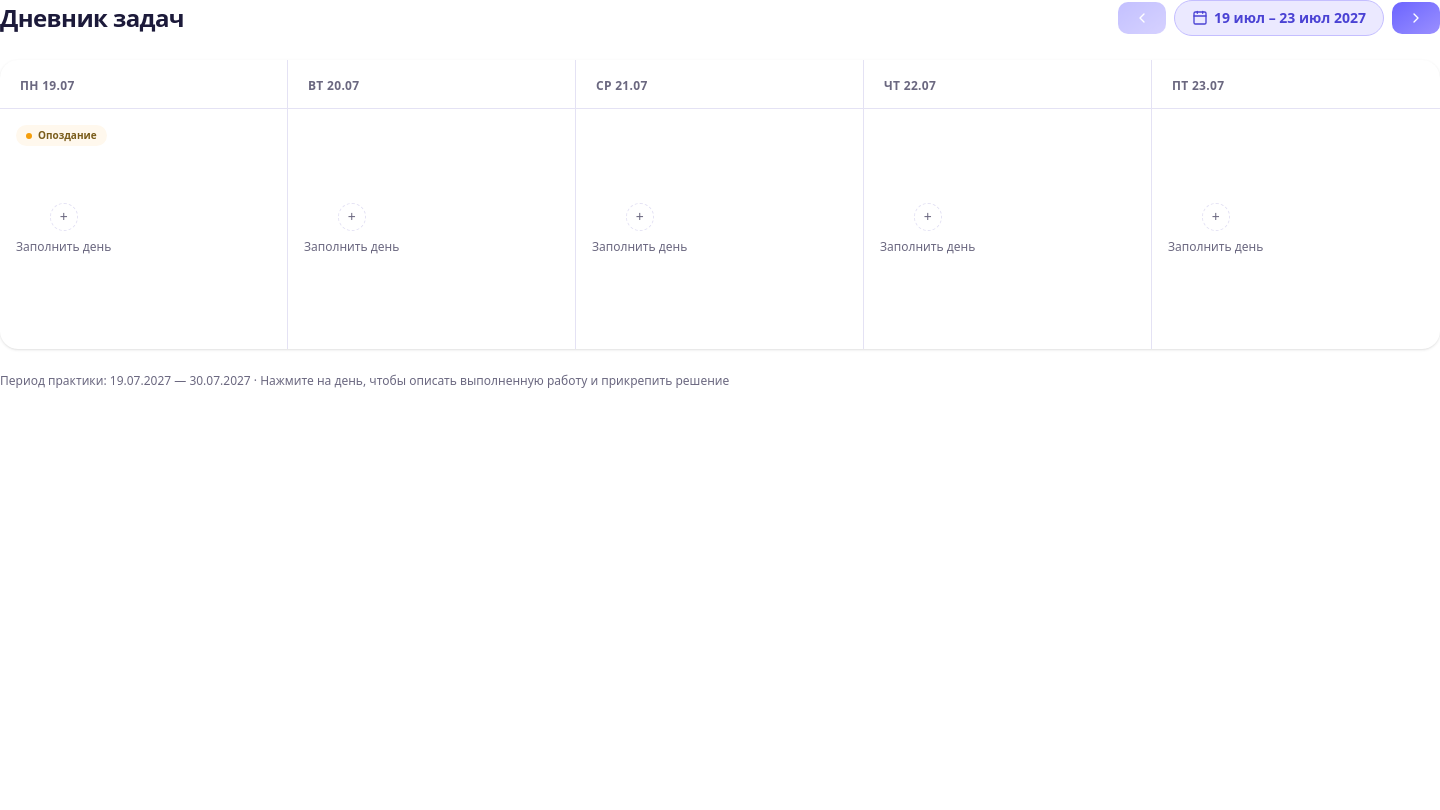
Scenario: DashboardTasksPage (дневник задач) › очищает день кнопкой "Очистить день"
Click the button "Опоздание + Заполнить день" at (144, 229), box [16,125,271,333]
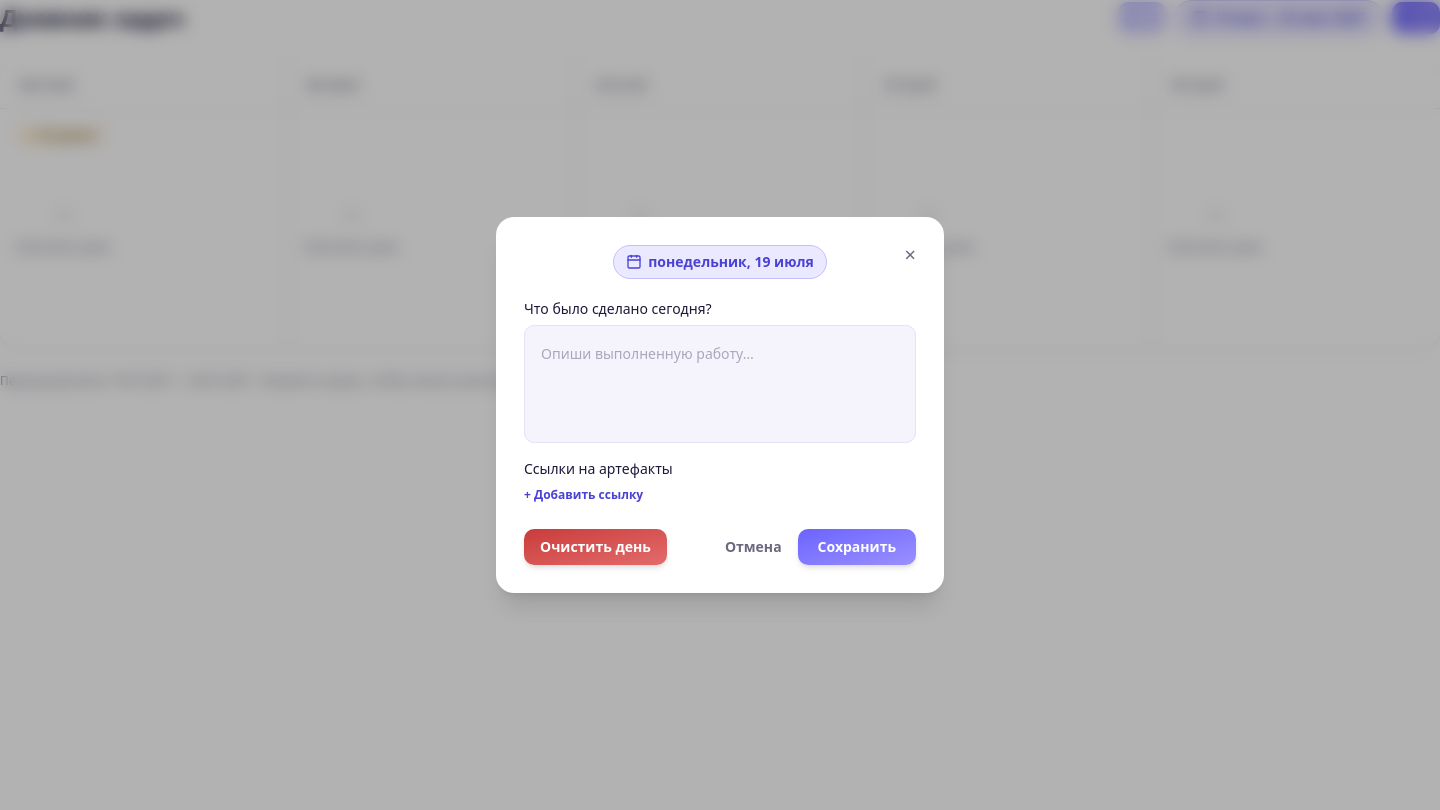
Type "Черновик" into the text box with placeholder "Опиши выполненную работу…" at (720, 384), box [524,325,916,443]
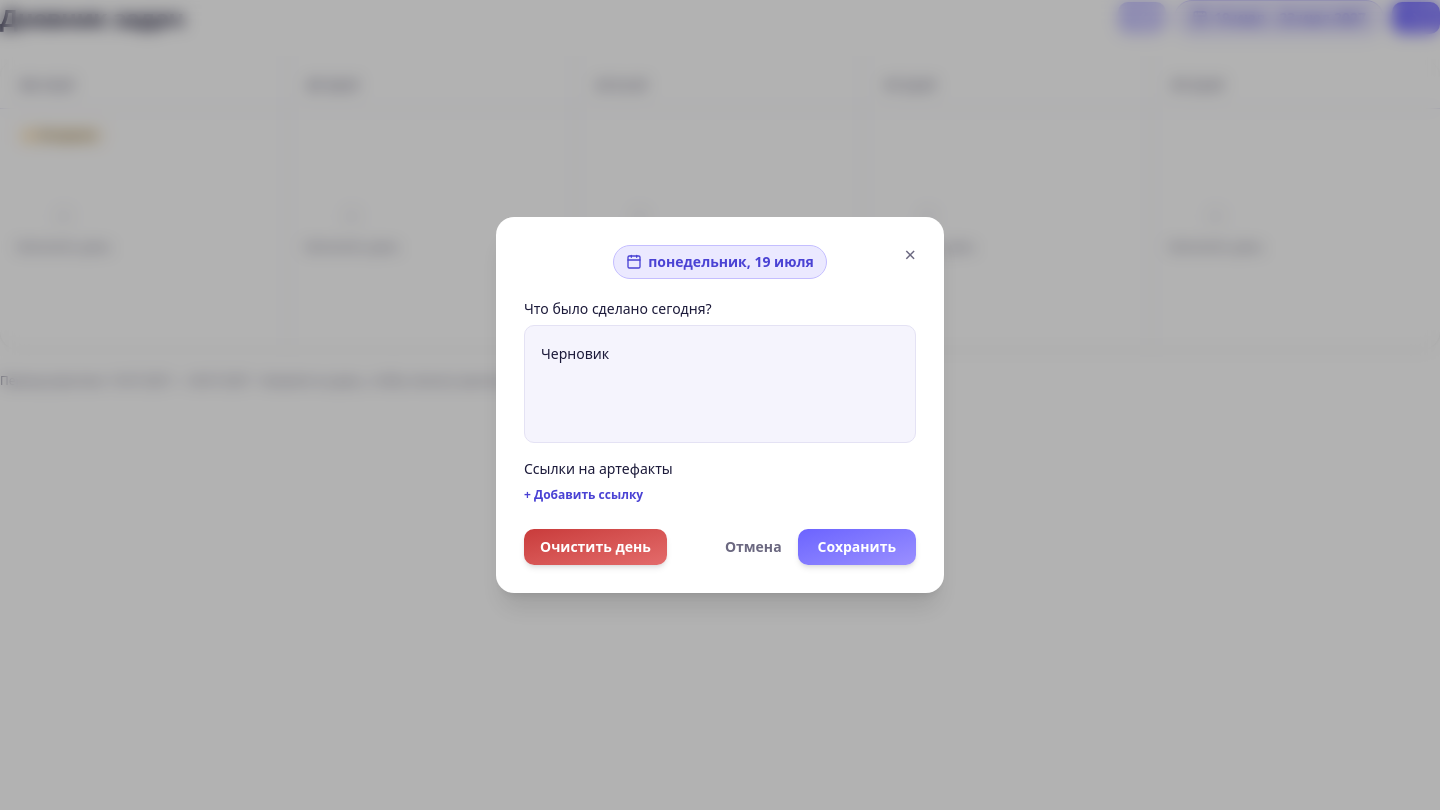
Click the button "Сохранить" at (857, 547), box [798,529,916,565]
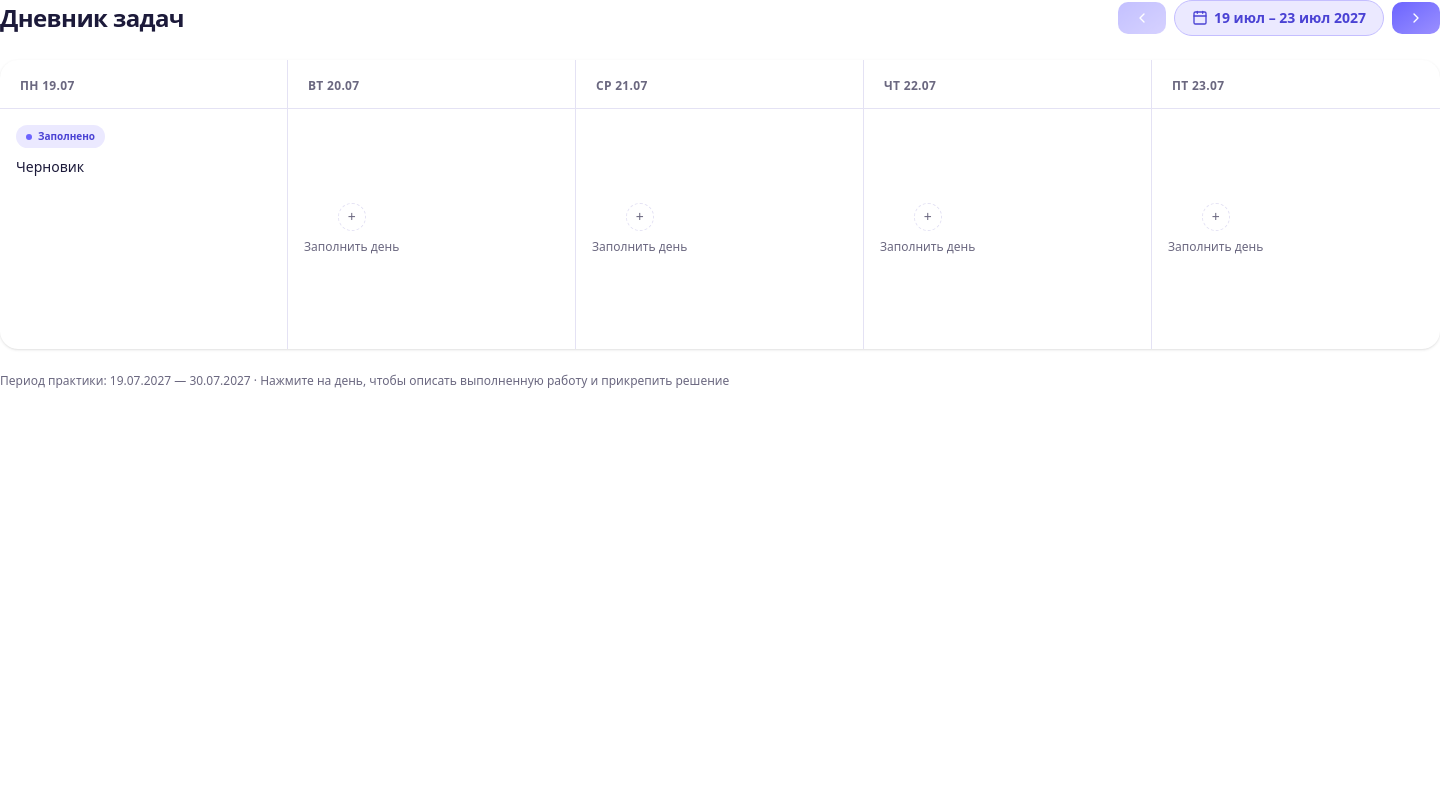
Expected: the text "Что было сделано сегодня?" is gone
Expected: the text "Черновик" is shown
Click the text "Черновик" at (50, 167), box [16,156,84,179]
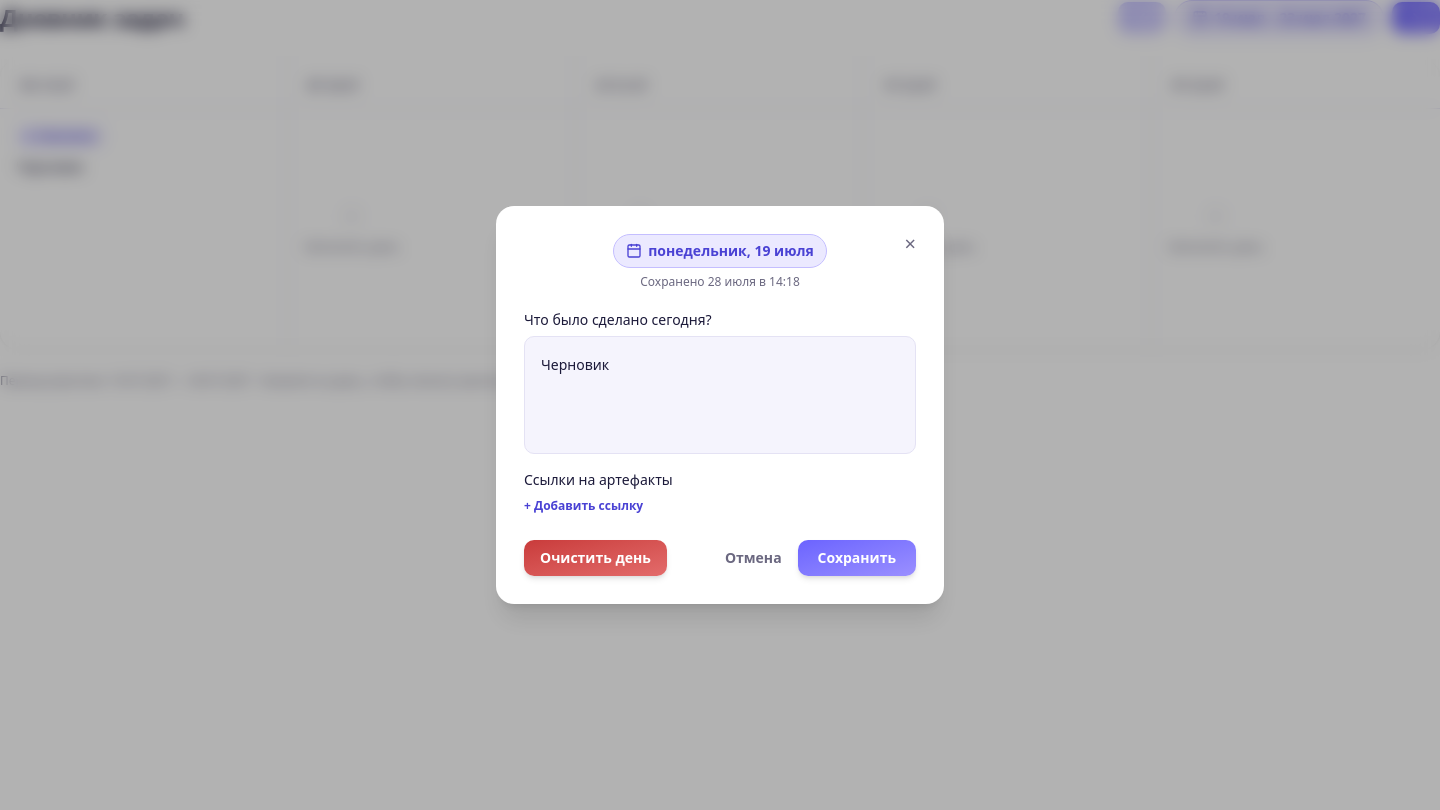
Click the button "Очистить день" at (595, 558), box [524,540,667,576]
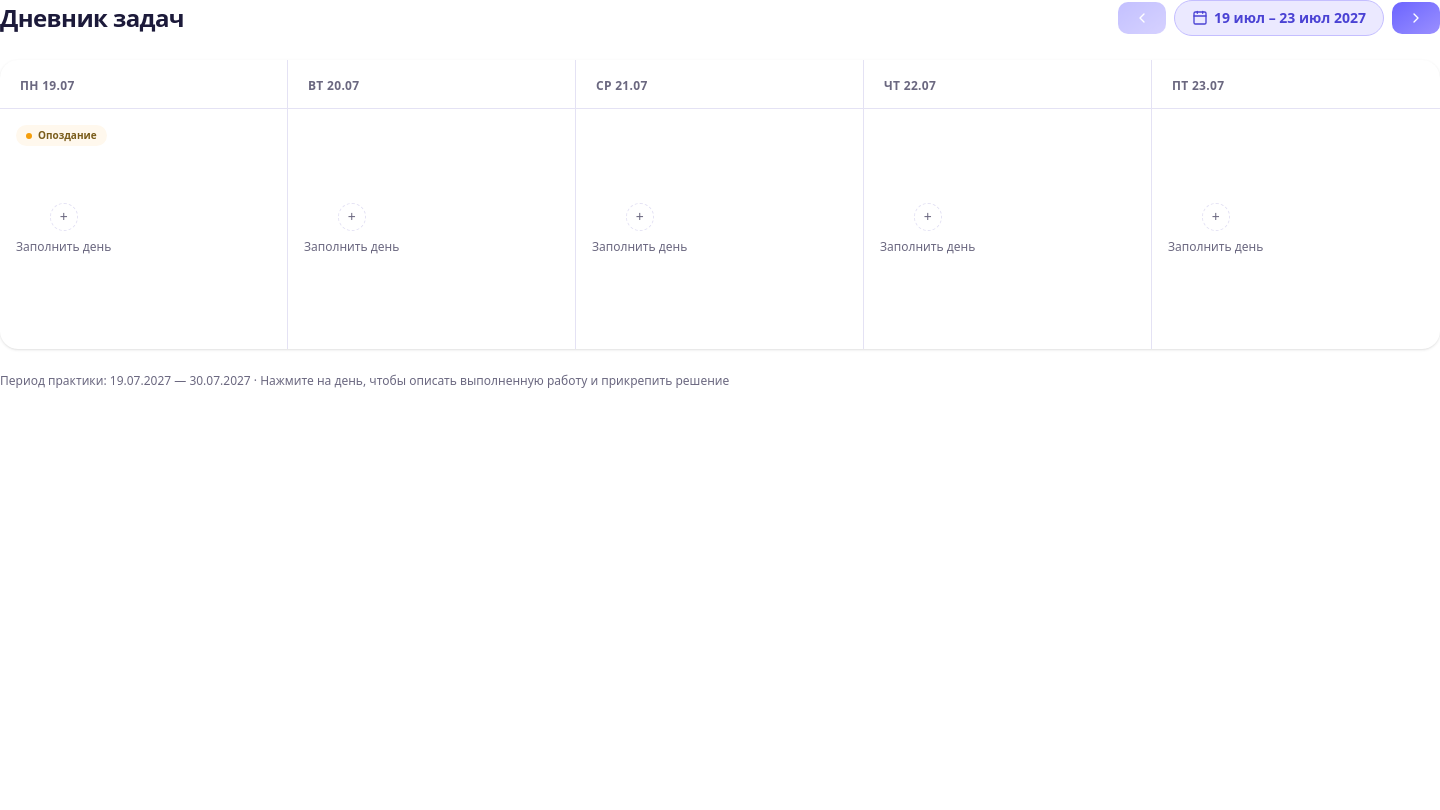
Expected: the text "Что было сделано сегодня?" is gone
